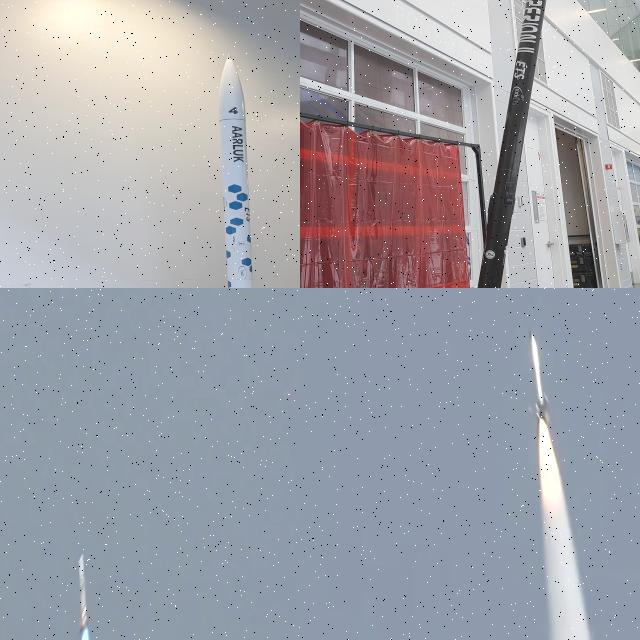Rocket: (477, 0, 547, 288), (218, 53, 253, 288), (530, 330, 552, 424), (78, 554, 90, 632)
